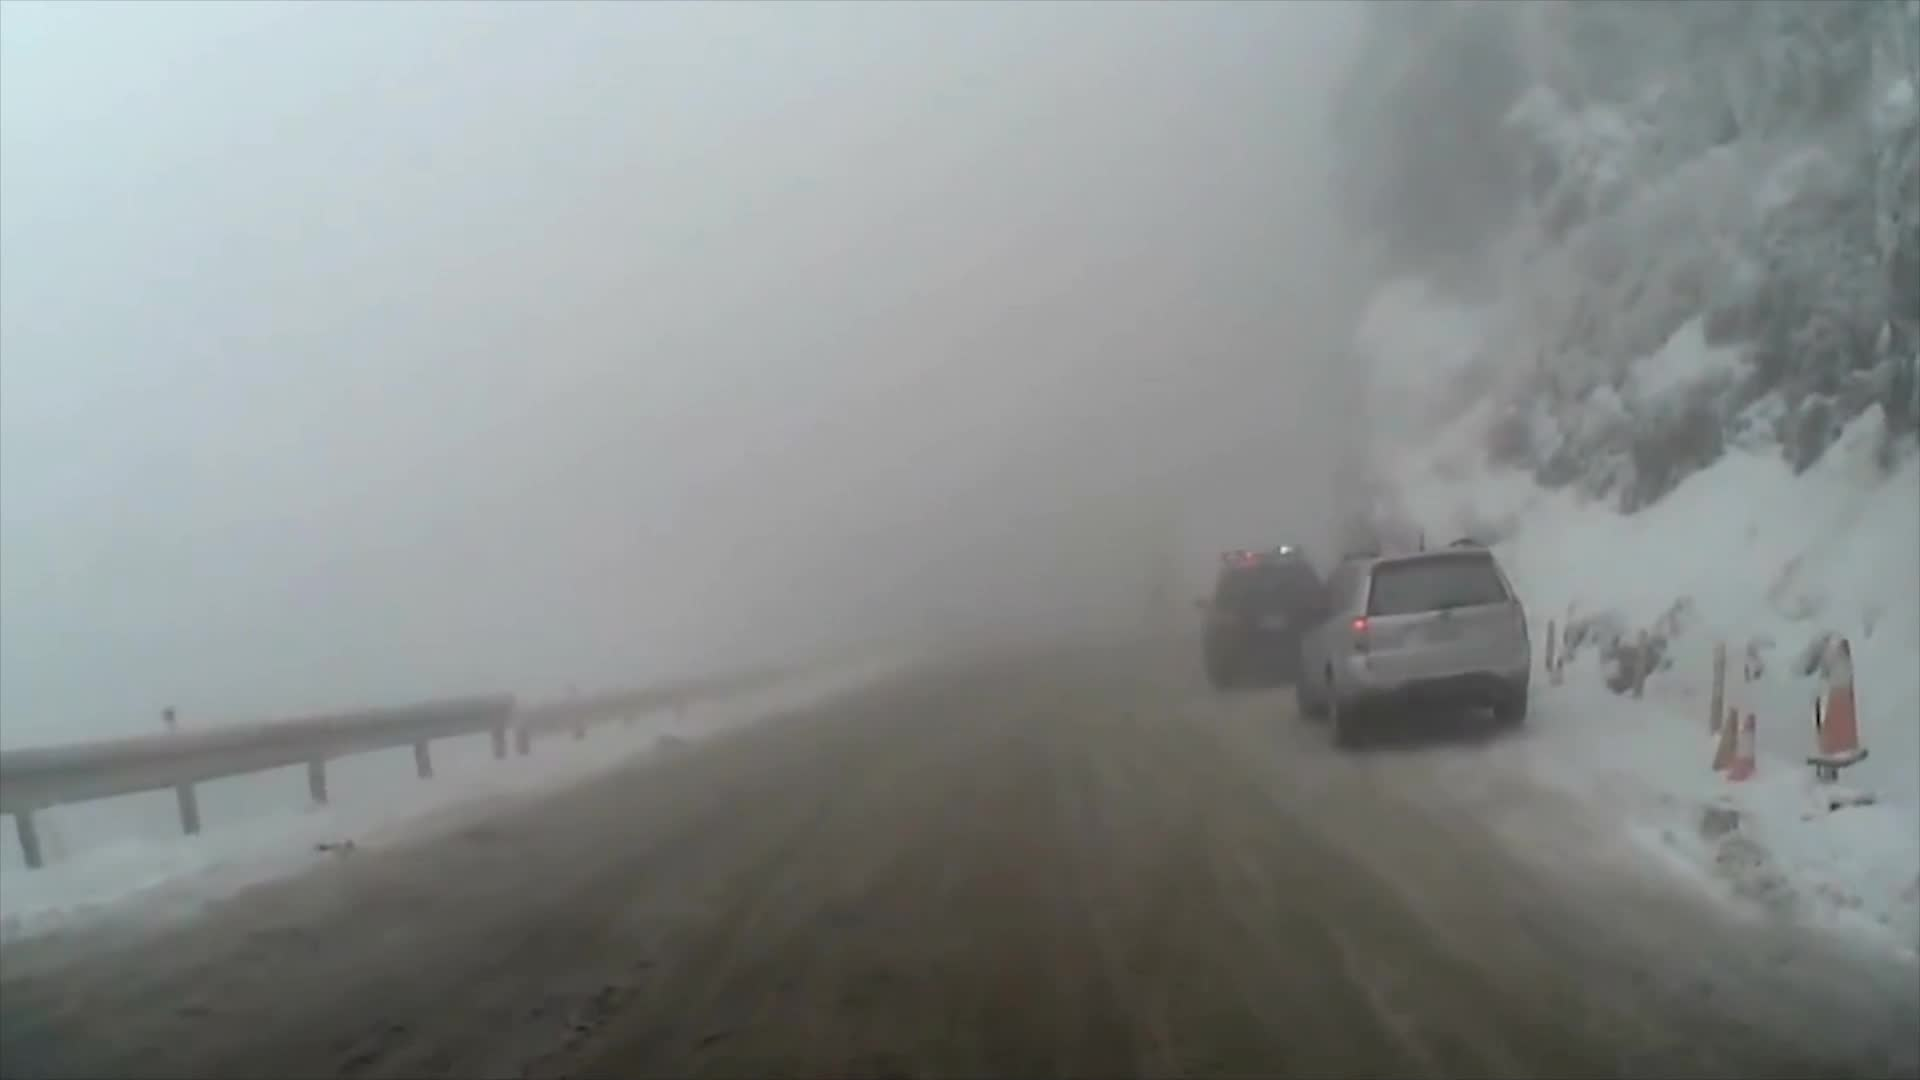vehicle: (1290, 531, 1528, 752), (1189, 541, 1335, 694)
